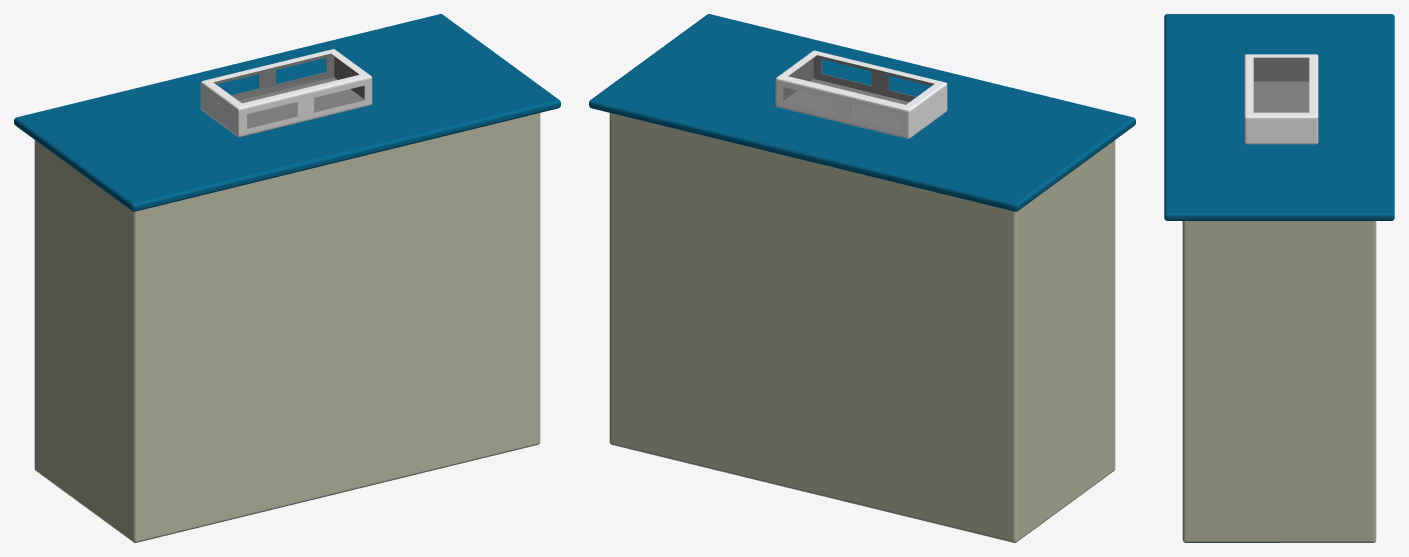
Rendered from Scrivania.fbx.
The picture shows the model from 3 angles, left to right: view 1: azimuth 30°, elevation 25°; view 2: azimuth 150°, elevation 25°; view 3: azimuth 270°, elevation 25°; orthographic projection. The views are drawn at different scales.
Parts seen in each view (by area): view 1: Cube.144, scatola.014; view 2: Cube.144, scatola.014; view 3: Cube.144, scatola.014.
Boxes of the visible parts, <box> form: Cube.144: <box>14,14,560,542</box>; scatola.014: <box>200,49,372,137</box>; Cube.144: <box>589,14,1135,542</box>; scatola.014: <box>775,50,947,138</box>; Cube.144: <box>1164,14,1394,542</box>; scatola.014: <box>1244,54,1318,144</box>.
Size of the model in its own units: 0.9155 by 0.7718 by 0.4436.
